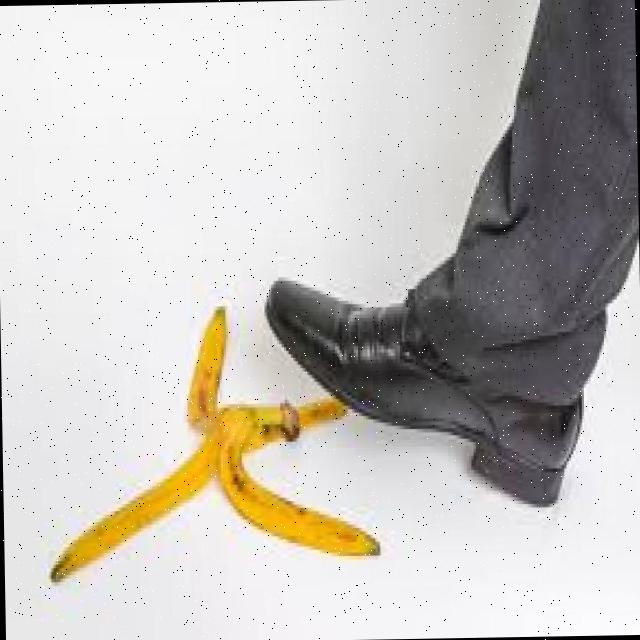banana-peel: (42, 300, 380, 583)
